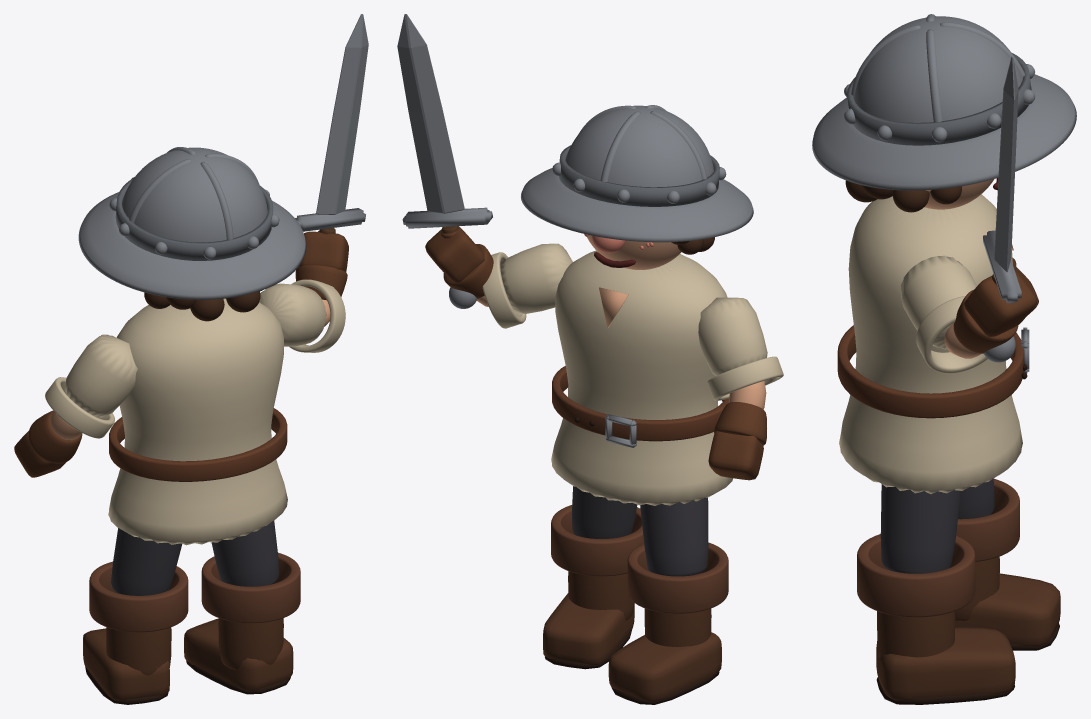
The model's file is soldier_detail.glb.
3 views of the same model, side by side, from view 1: azimuth 30°, elevation 25°; view 2: azimuth 150°, elevation 25°; view 3: azimuth 270°, elevation 25° (orthographic). The views are drawn at different scales.
Visible parts, largest first — view 1: Detail; view 2: Detail; view 3: Detail.
Boxes of the visible parts, x1,y1,x2,y2 form: Detail: [14, 14, 368, 704]; Detail: [397, 14, 783, 704]; Detail: [812, 14, 1076, 704].
Size of the model in its own units: 0.693 by 1.14 by 0.3798.
